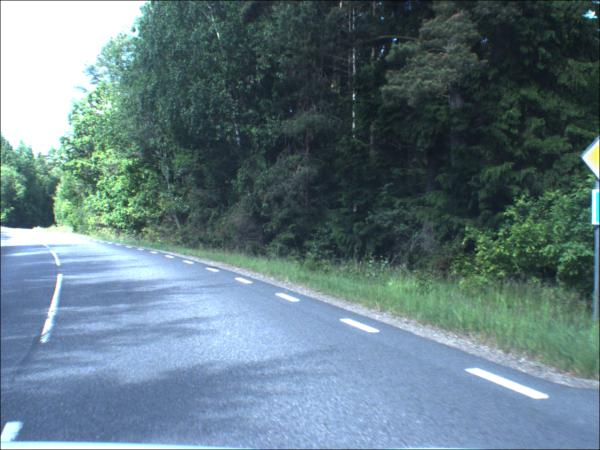PRIORITY_ROAD: (580, 135, 599, 181)
